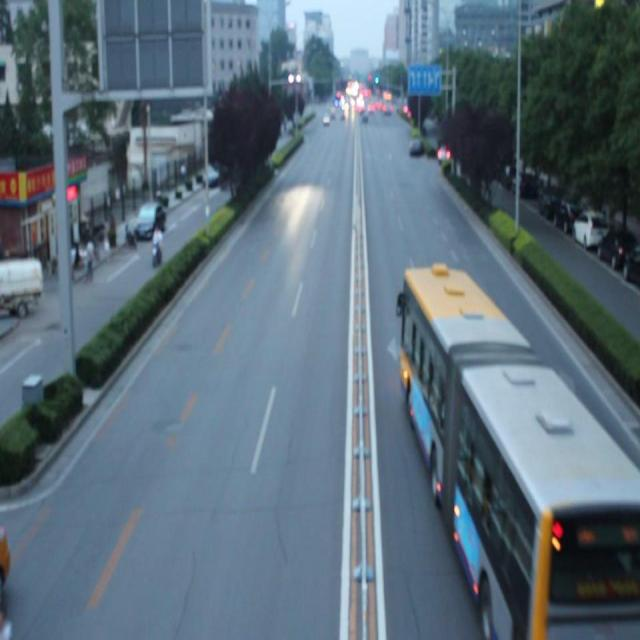van: (404, 264, 640, 639)
